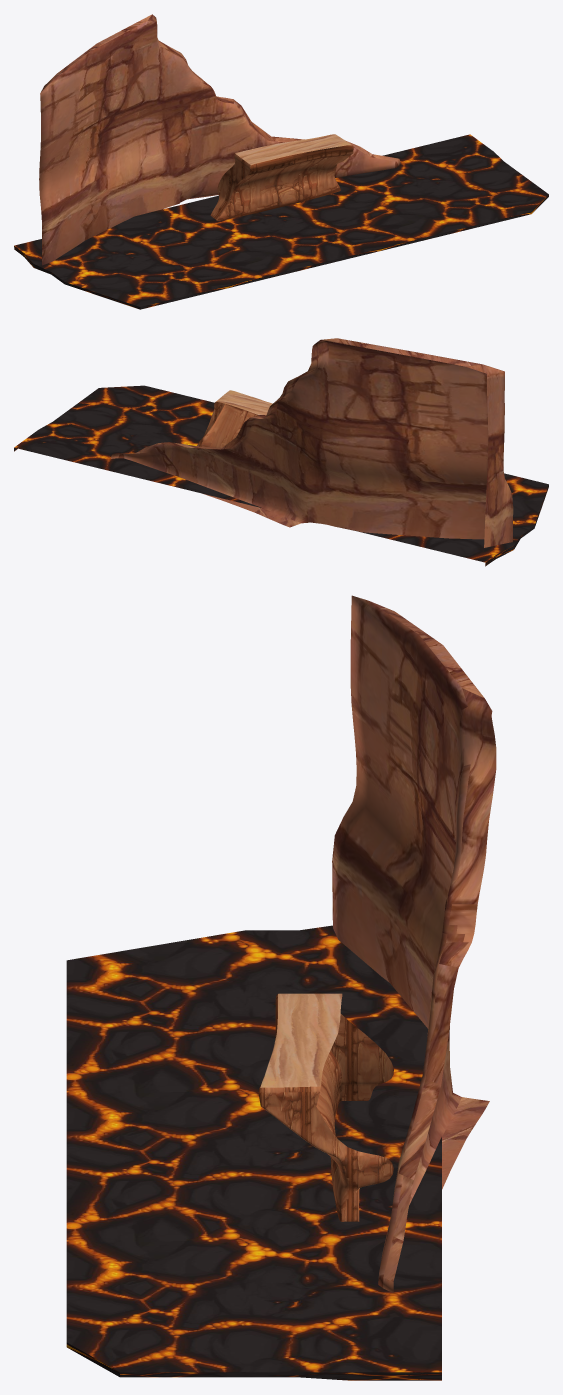
The model's file is boss stage.FBX.
3 renders of one model, top to bottom at view 1: azimuth 30°, elevation 25°; view 2: azimuth 150°, elevation 25°; view 3: azimuth 270°, elevation 25°, orthographic. The views are drawn at different scales.
Visible parts, largest first — view 1: Box001, Box002, Box003; view 2: Box002, Box001, Box003; view 3: Box001, Box002, Box003.
Part boxes in pixels (box(x1,y1,x2,y2)): Box001: box(14, 134, 548, 309); Box002: box(39, 14, 400, 265); Box003: box(210, 134, 353, 220); Box002: box(110, 338, 513, 547); Box001: box(14, 385, 548, 566); Box003: box(197, 390, 272, 447); Box001: box(66, 925, 441, 1380); Box002: box(332, 595, 496, 1292); Box003: box(258, 993, 393, 1221).
Bounding box in the file's own units: 1220 × 484 × 494.
4 materials, 4 textured.
